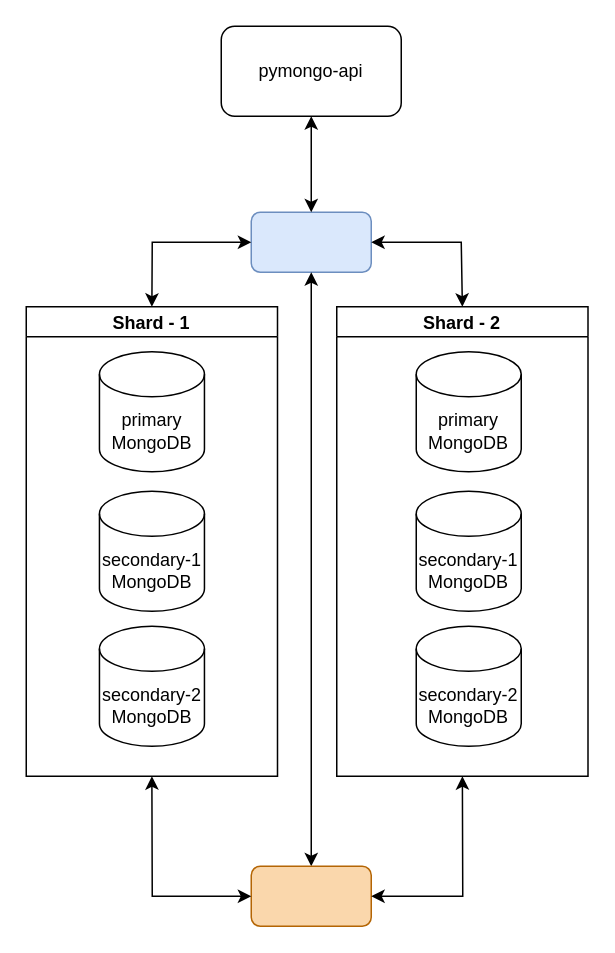
This 615x953 diagram has some shape labels left out. Each missing label, with the centre of its shape:
config-server: [310,895]
mongos-router: [310,241]
